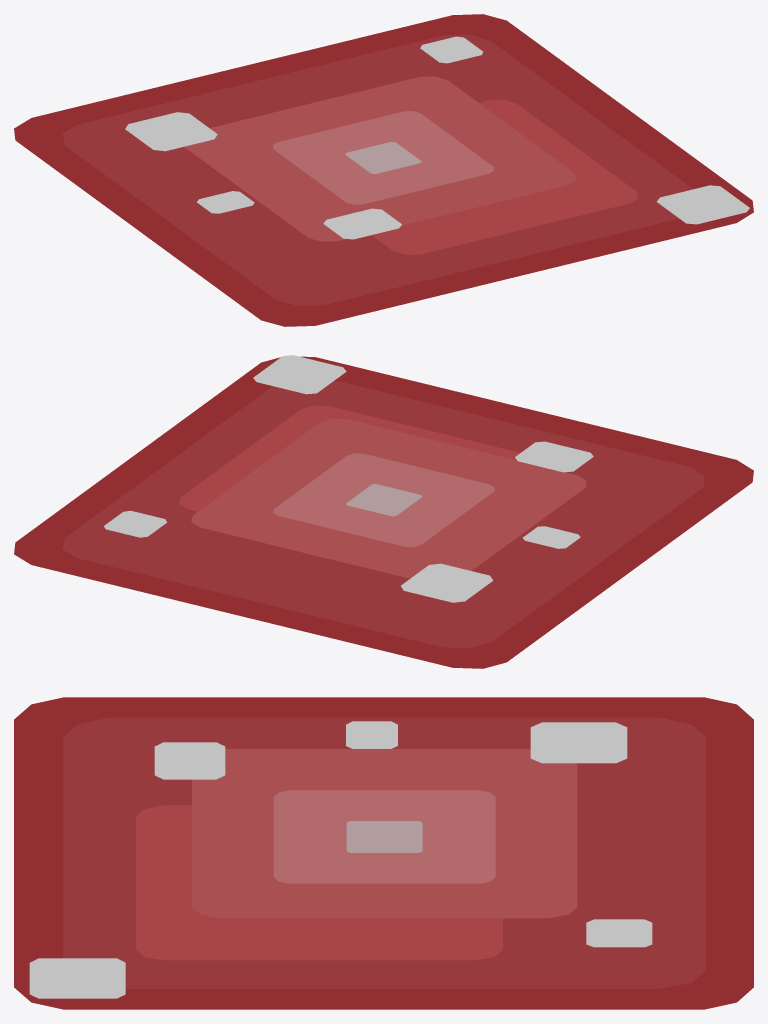
File: BC_cookrecipe_S_37.fbx
3 renders of one model, top to bottom at view 1: azimuth 30°, elevation 25°; view 2: azimuth 150°, elevation 25°; view 3: azimuth 270°, elevation 25°, orthographic. The views are drawn at different scales.
Parts seen in each view (by area): view 1: polySurface1, boko4, boko2, boko3, boko1, boko5; view 2: polySurface1, boko4, boko2, boko3, boko1, boko5; view 3: polySurface1, boko4, boko2, boko3, boko1, boko5.
Boxes of the visible parts, x1,y1,x2,y2 form: polySurface1: [14, 14, 753, 326]; boko4: [125, 112, 217, 151]; boko2: [656, 185, 749, 224]; boko3: [323, 208, 401, 239]; boko1: [420, 36, 482, 63]; boko5: [197, 191, 254, 213]; polySurface1: [14, 356, 753, 668]; boko4: [401, 563, 493, 602]; boko2: [253, 355, 346, 394]; boko3: [515, 441, 593, 472]; boko1: [104, 510, 166, 537]; boko5: [523, 526, 580, 548]; polySurface1: [14, 697, 753, 1009]; boko4: [530, 722, 627, 763]; boko2: [29, 958, 125, 998]; boko3: [154, 742, 225, 779]; boko1: [586, 919, 652, 947]; boko5: [346, 721, 397, 748].
Size of the model in its own units: 3.5 by 0.1657 by 3.5.
